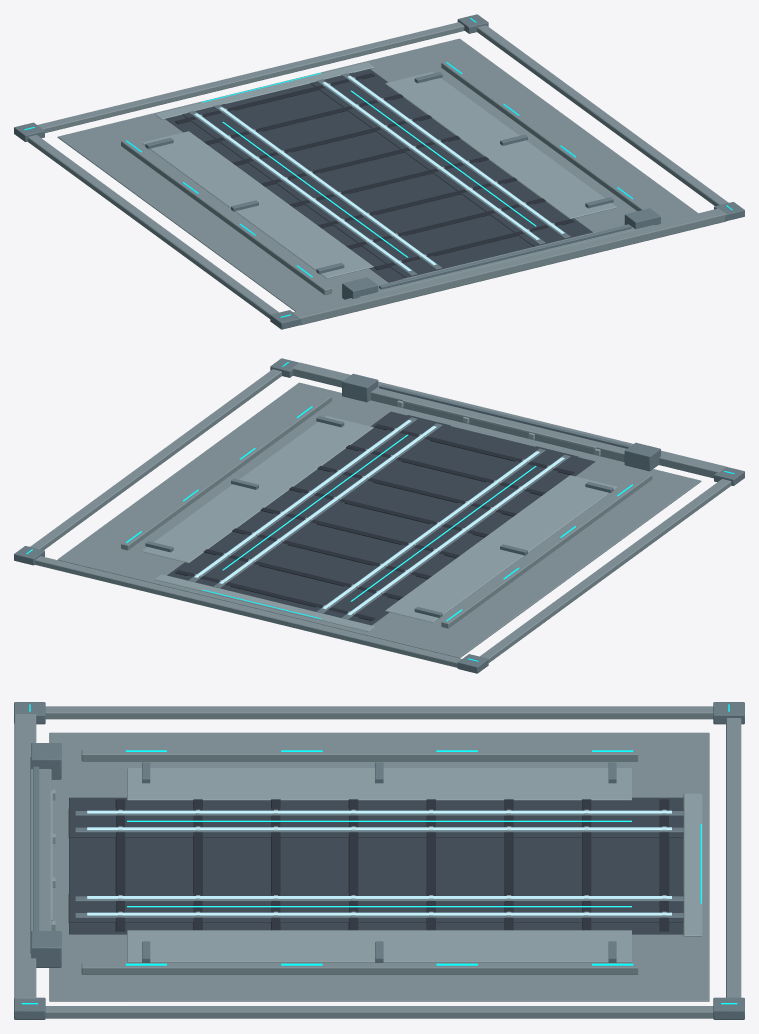
The model's file is sector_1_rail_approach.glb.
The picture shows the model from 3 angles, top to bottom: view 1: azimuth 30°, elevation 25°; view 2: azimuth 150°, elevation 25°; view 3: azimuth 270°, elevation 25°; orthographic projection. The views are drawn at different scales.
Parts seen in each view (by area): view 1: RailApproachCorridorDeckBase, RailApproachCentralRunwayRecess, RailApproachInsetSideDeckPlate1, RailApproachInsetSideDeckPlate0, RailApproachLaneBasePlate0, RailApproachLaneBasePlate1, RailApproachNorthBoundaryMachineWall, RailApproachSouthBoundaryMachineWall, RailApproachWestBoundaryMachineWall, RailApproachEastBoundaryMachineWall, RailApproachDefenseCorridorWall0, RailApproachDefenseCorridorWall1 (+21 smaller); view 2: RailApproachCorridorDeckBase, RailApproachCentralRunwayRecess, RailApproachInsetSideDeckPlate1, RailApproachInsetSideDeckPlate0, RailApproachLaneBasePlate0, RailApproachLaneBasePlate1, RailApproachSouthBoundaryMachineWall, RailApproachWestBoundaryMachineWall, RailApproachEastBoundaryMachineWall, RailApproachNorthDefenseGateBase, RailApproachDefenseCorridorWall0, RailApproachDefenseCorridorWall1 (+22 smaller); view 3: RailApproachCorridorDeckBase, RailApproachCentralRunwayRecess, RailApproachInsetSideDeckPlate0, RailApproachInsetSideDeckPlate1, RailApproachLaneBasePlate0, RailApproachLaneBasePlate1, RailApproachWestBoundaryMachineWall, RailApproachEastBoundaryMachineWall, RailApproachDefenseCorridorWall0, RailApproachDefenseCorridorWall1, RailApproachNorthBoundaryMachineWall, RailApproachSouthBoundaryMachineWall (+26 smaller).
Boxes of the visible parts, bbox=[...] form: RailApproachCorridorDeckBase: bbox=[57, 38, 697, 311]; RailApproachCentralRunwayRecess: bbox=[165, 69, 592, 282]; RailApproachInsetSideDeckPlate1: bbox=[385, 72, 617, 218]; RailApproachInsetSideDeckPlate0: bbox=[142, 131, 373, 278]; RailApproachLaneBasePlate0: bbox=[182, 104, 448, 278]; RailApproachLaneBasePlate1: bbox=[310, 72, 576, 246]; RailApproachNorthBoundaryMachineWall: bbox=[292, 208, 726, 325]; RailApproachSouthBoundaryMachineWall: bbox=[37, 22, 464, 132]; RailApproachWestBoundaryMachineWall: bbox=[27, 135, 278, 318]; RailApproachEastBoundaryMachineWall: bbox=[477, 25, 728, 205]; RailApproachDefenseCorridorWall0: bbox=[121, 139, 331, 294]; RailApproachDefenseCorridorWall1: bbox=[441, 61, 648, 211]; RailApproachCorridorDeckBase: bbox=[57, 382, 701, 658]; RailApproachCentralRunwayRecess: bbox=[167, 411, 595, 625]; RailApproachInsetSideDeckPlate1: bbox=[141, 416, 373, 562]; RailApproachInsetSideDeckPlate0: bbox=[385, 475, 616, 622]; RailApproachLaneBasePlate0: bbox=[311, 446, 578, 621]; RailApproachLaneBasePlate1: bbox=[183, 415, 450, 589]; RailApproachSouthBoundaryMachineWall: bbox=[35, 556, 461, 667]; RailApproachWestBoundaryMachineWall: bbox=[480, 479, 731, 662]; RailApproachEastBoundaryMachineWall: bbox=[30, 369, 281, 549]; RailApproachNorthDefenseGateBase: bbox=[370, 386, 626, 461]; RailApproachDefenseCorridorWall0: bbox=[441, 473, 652, 628]; RailApproachDefenseCorridorWall1: bbox=[121, 394, 331, 550]; RailApproachCorridorDeckBase: bbox=[49, 732, 709, 1001]; RailApproachCentralRunwayRecess: bbox=[69, 797, 683, 934]; RailApproachInsetSideDeckPlate0: bbox=[127, 768, 631, 800]; RailApproachInsetSideDeckPlate1: bbox=[127, 930, 631, 962]; RailApproachLaneBasePlate0: bbox=[68, 808, 683, 837]; RailApproachLaneBasePlate1: bbox=[68, 893, 683, 922]; RailApproachWestBoundaryMachineWall: bbox=[45, 706, 713, 719]; RailApproachEastBoundaryMachineWall: bbox=[45, 1006, 713, 1018]; RailApproachDefenseCorridorWall0: bbox=[81, 749, 638, 761]; RailApproachDefenseCorridorWall1: bbox=[81, 963, 638, 974]; RailApproachNorthBoundaryMachineWall: bbox=[14, 714, 36, 998]; RailApproachSouthBoundaryMachineWall: bbox=[726, 718, 741, 997].
Bounding box in the file's own units: 56.45 × 1.96 × 56.45.
